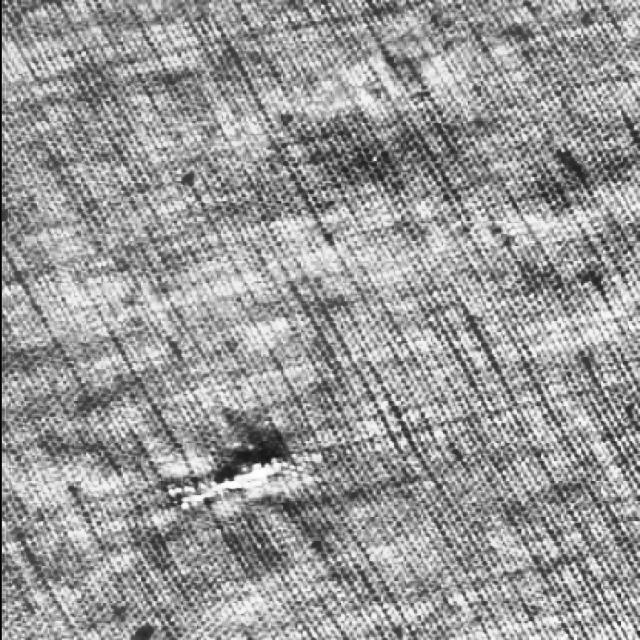hole: (154, 445, 298, 528)
